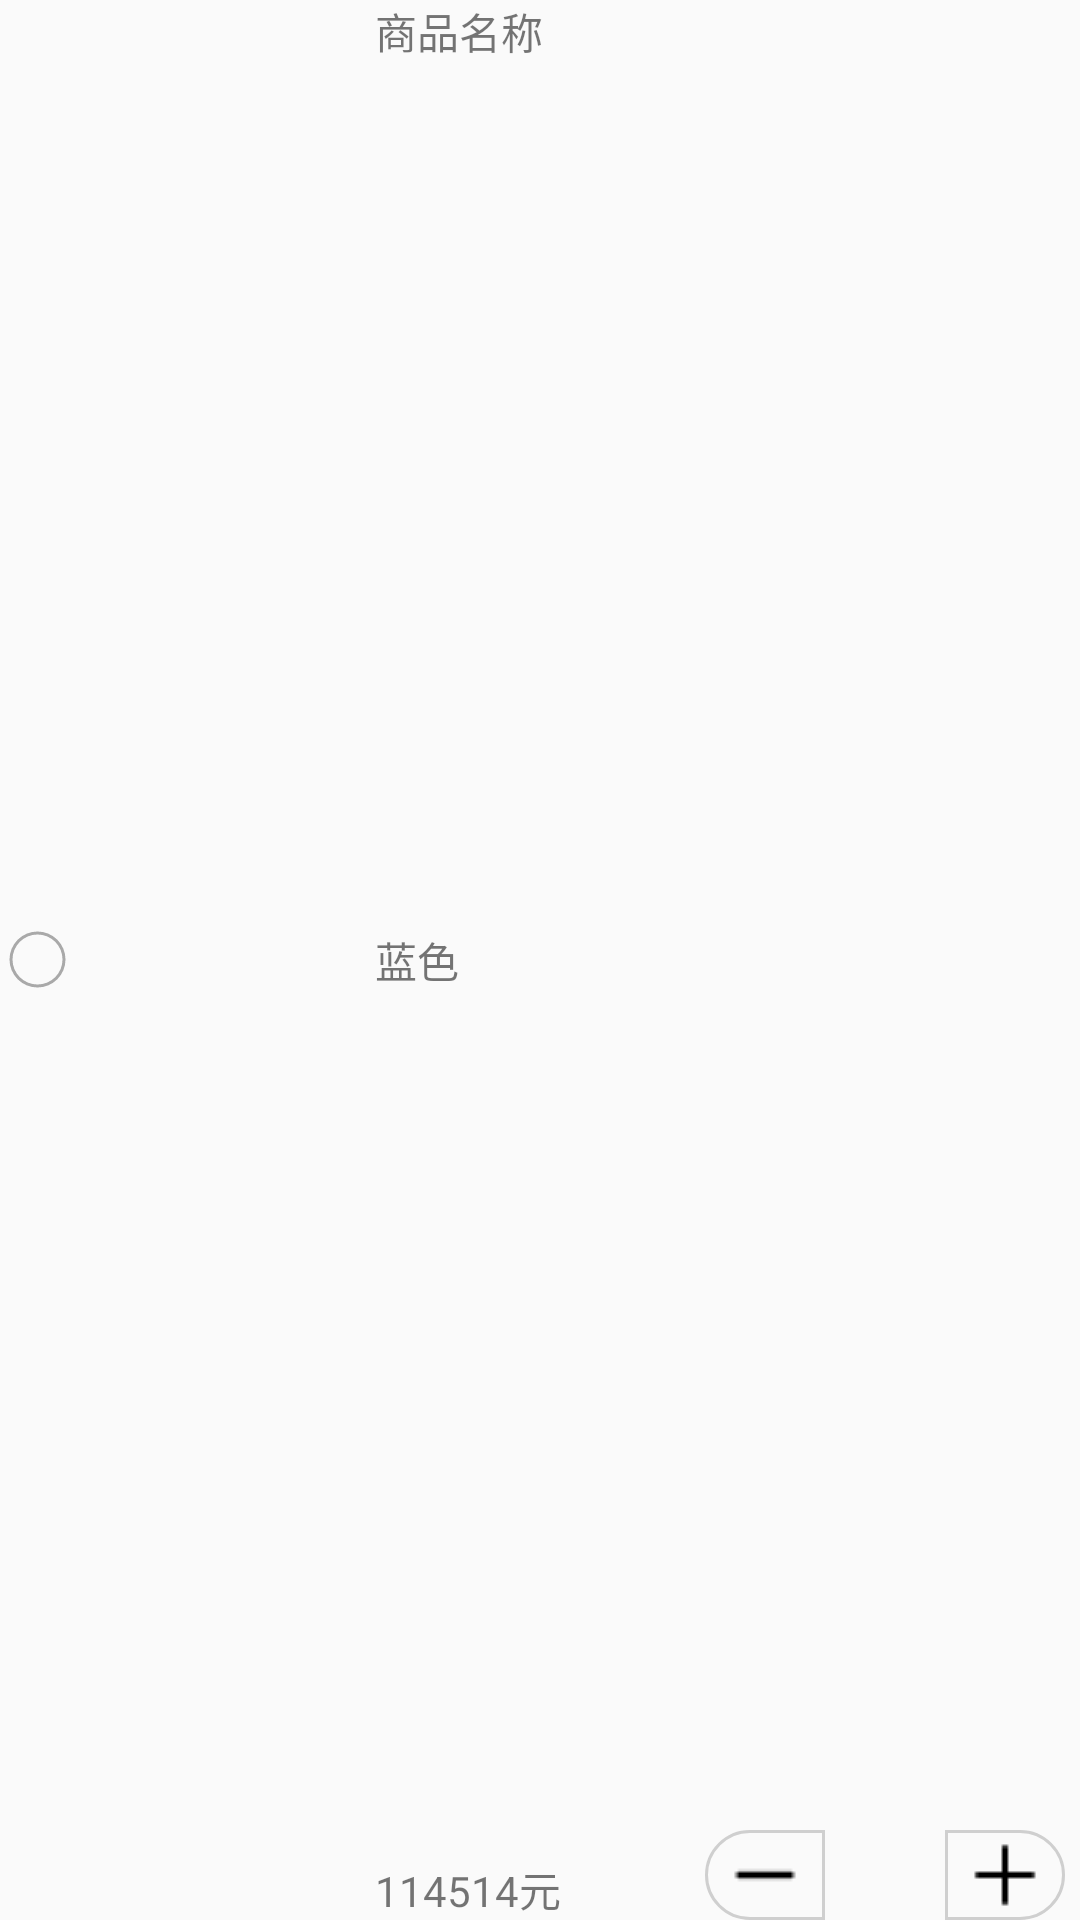

Named icons in this screenshot (1080*1920) and their centers, [x,y]:
cart add: [1005,1875]
cart sub: [765,1875]
